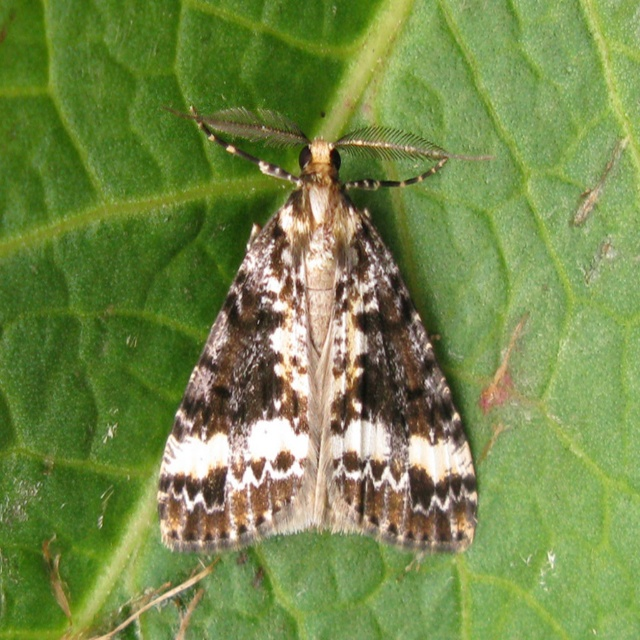Butterfly: (144, 76, 490, 564)
